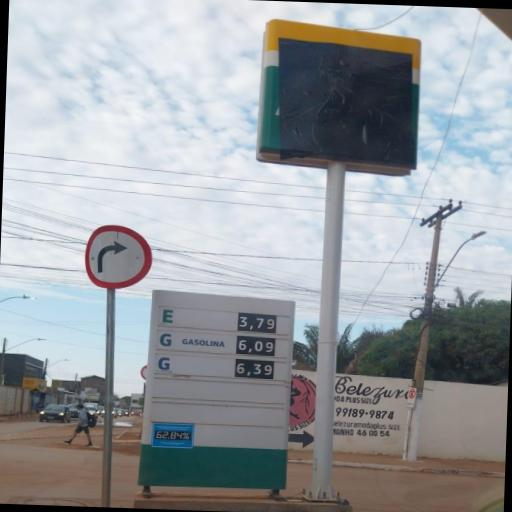ETANOL: (158, 307, 238, 330)
GASOLINA AD: (155, 352, 234, 376)
GASOLINA C: (157, 330, 235, 352)
placa: (152, 301, 287, 384)
preco: (235, 358, 274, 378), (238, 334, 274, 355), (239, 312, 275, 331)
